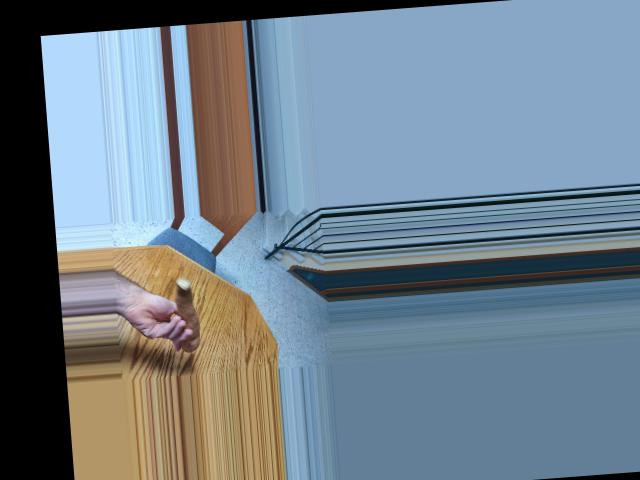sweet_potato: (167, 276, 201, 350)
